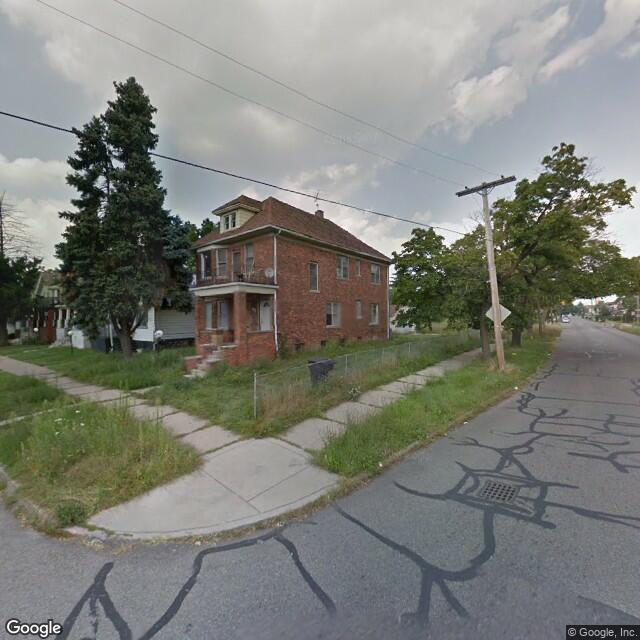litter: (373, 458, 387, 473), (190, 535, 205, 548), (458, 416, 470, 424), (513, 385, 522, 395)
